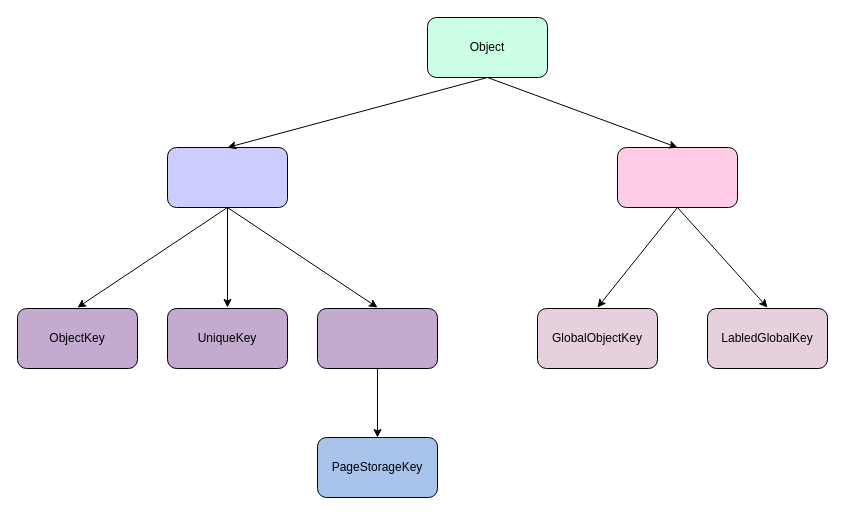
Some shapes in this 845 by 515 pixel diagram are drawn without their labels. The shapes that lost their labels are listed below. From the top down, each one's box as (x1, y1, x2, y2) in pixels, then its label:
(166, 146, 288, 208): LocalKey
(616, 146, 738, 208): GlobalKey
(316, 308, 438, 368): ValueKey
